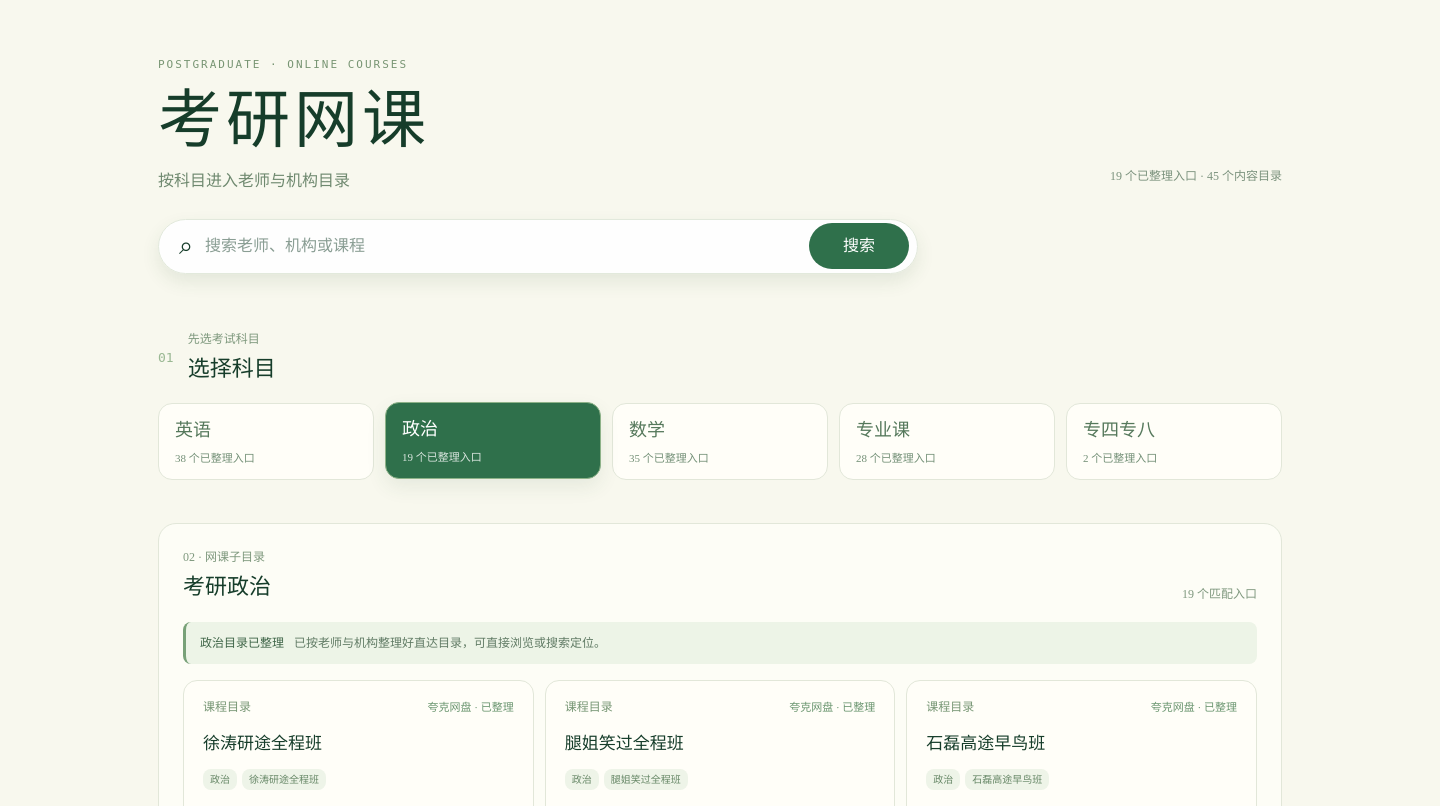
Scenario: postgraduate course pilot › switches to the matching subject when searching a teacher from another subject
In the field named "搜索考研网课老师或机构": {"x": 501, "y": 246} x1=205 y1=234 x2=797 y2=258, type "田静"
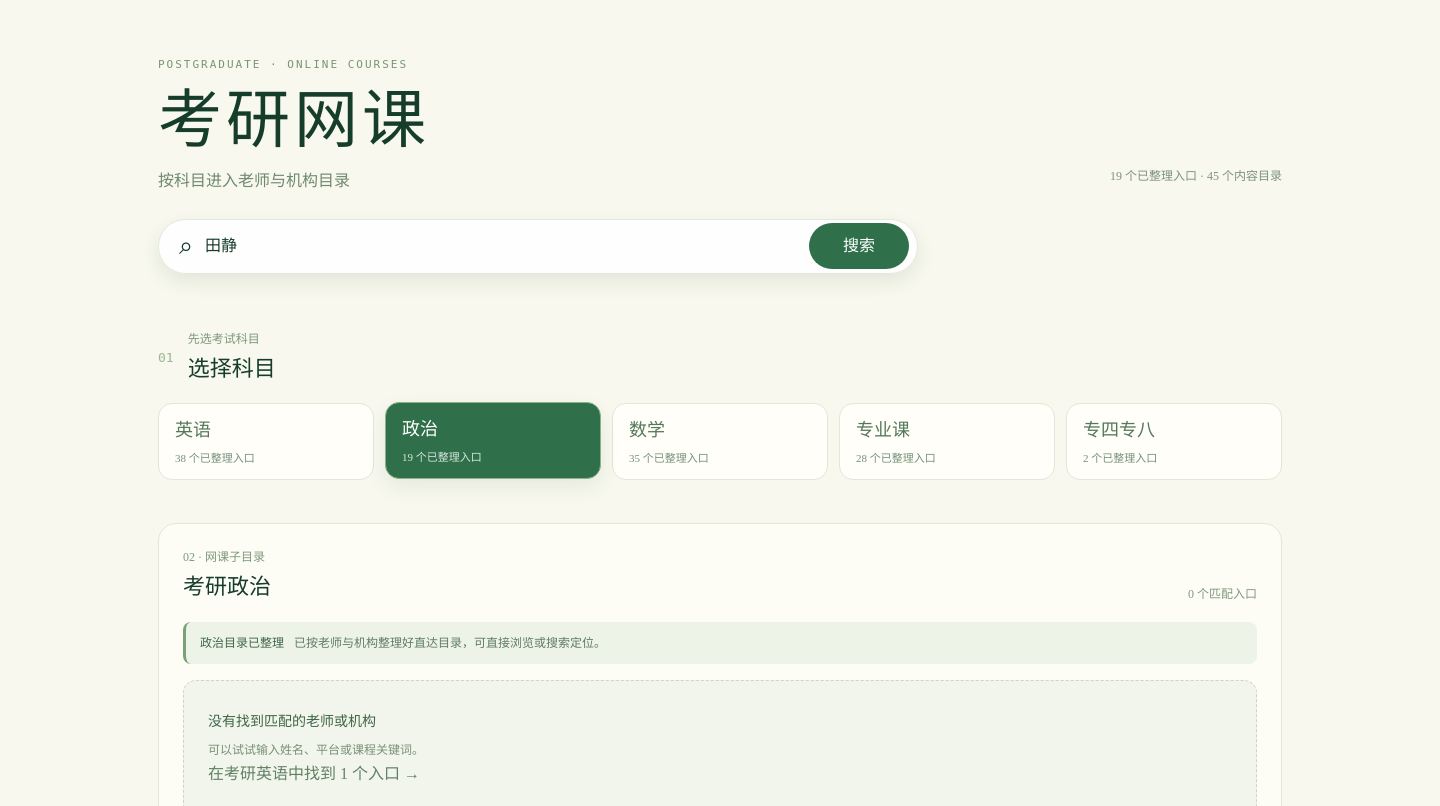
Click the button "搜索": {"x": 859, "y": 246} x1=809 y1=223 x2=909 y2=269
(page scrolled)
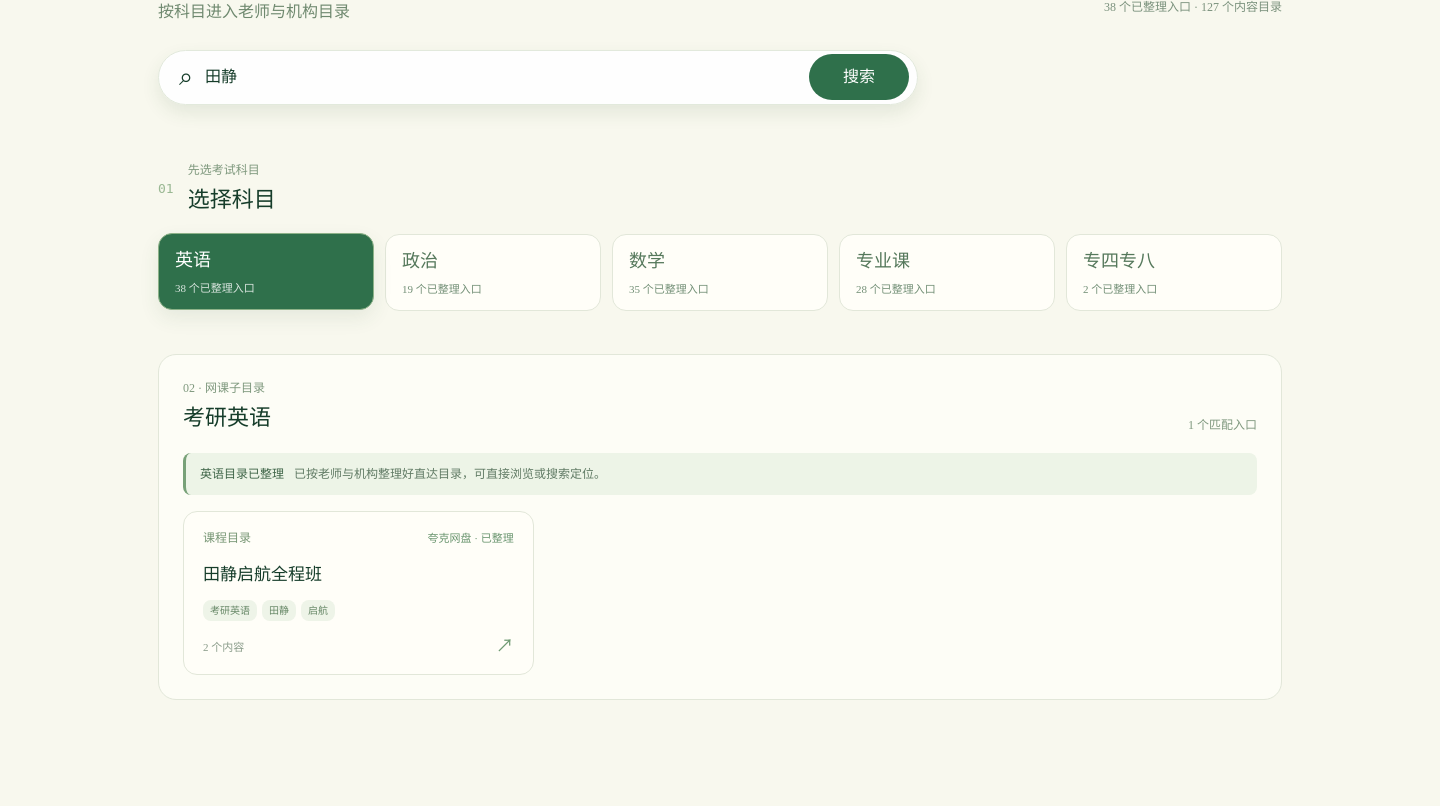
Expected: the link "课程目录 夸克网盘 · 已整理 田静启航全程班 考研英语 田静 启航 2 个内容 ↗" is shown, x1=183 y1=511 x2=534 y2=675
